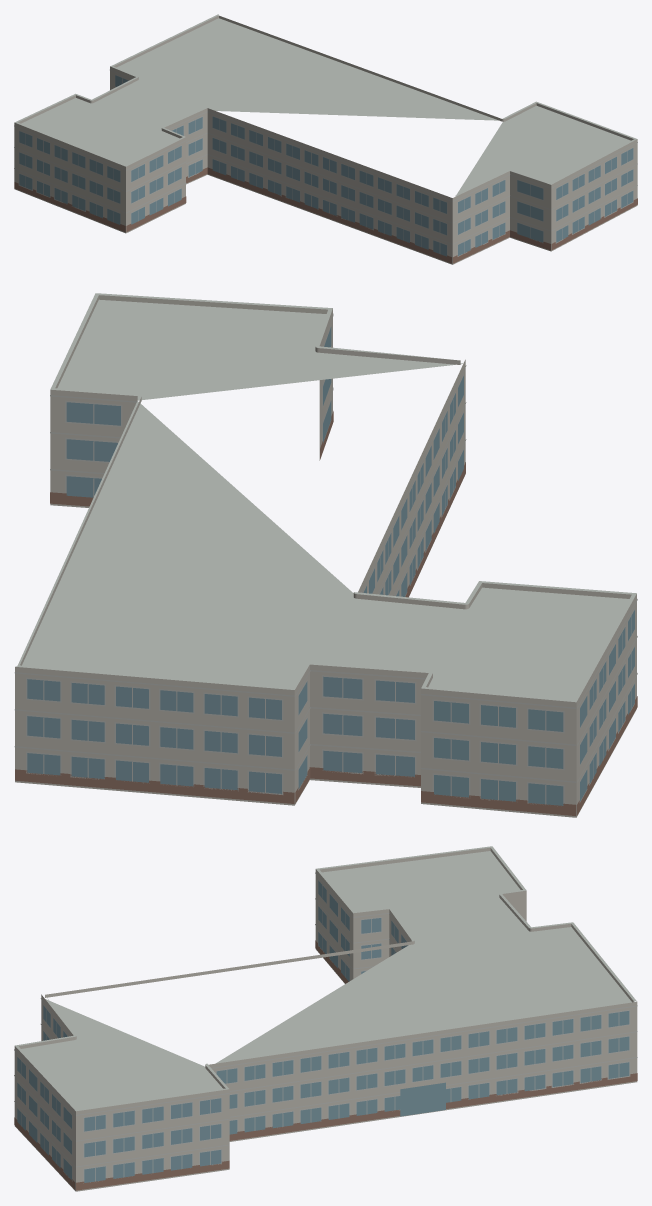
Rendered from public-d2bae654-9ddb-4713-8a6d-889bcc1a54ad.glb.
The picture shows the model from 3 angles, top to bottom: view 1: azimuth 30°, elevation 25°; view 2: azimuth 150°, elevation 25°; view 3: azimuth 270°, elevation 25°; orthographic projection. The views are drawn at different scales.
Parts seen in each view (by area): view 1: public-d2bae654-9ddb-4713-8a6d-889bcc1a54ad; view 2: public-d2bae654-9ddb-4713-8a6d-889bcc1a54ad; view 3: public-d2bae654-9ddb-4713-8a6d-889bcc1a54ad.
Boxes of the visible parts, x1,y1,x2,y2 form: public-d2bae654-9ddb-4713-8a6d-889bcc1a54ad: [14, 14, 637, 264]; public-d2bae654-9ddb-4713-8a6d-889bcc1a54ad: [14, 293, 637, 817]; public-d2bae654-9ddb-4713-8a6d-889bcc1a54ad: [14, 846, 637, 1191].
Bounding box in the file's own units: 64.76 × 9.15 × 64.28.
